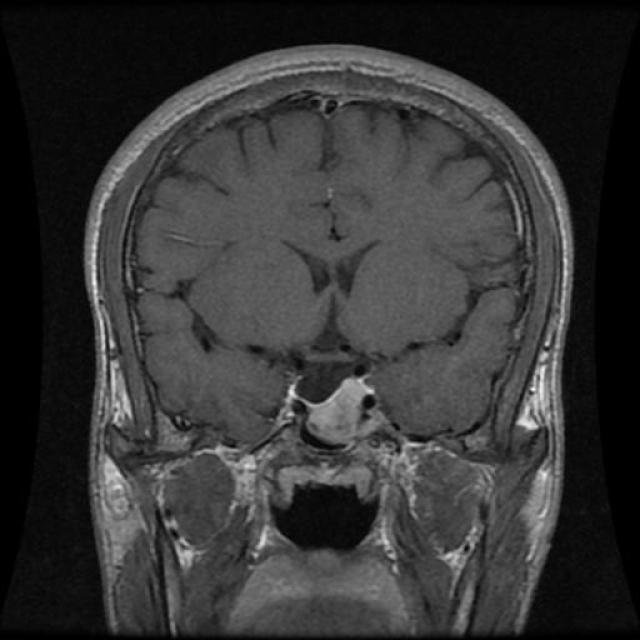pituitary: (262, 366, 392, 446)
